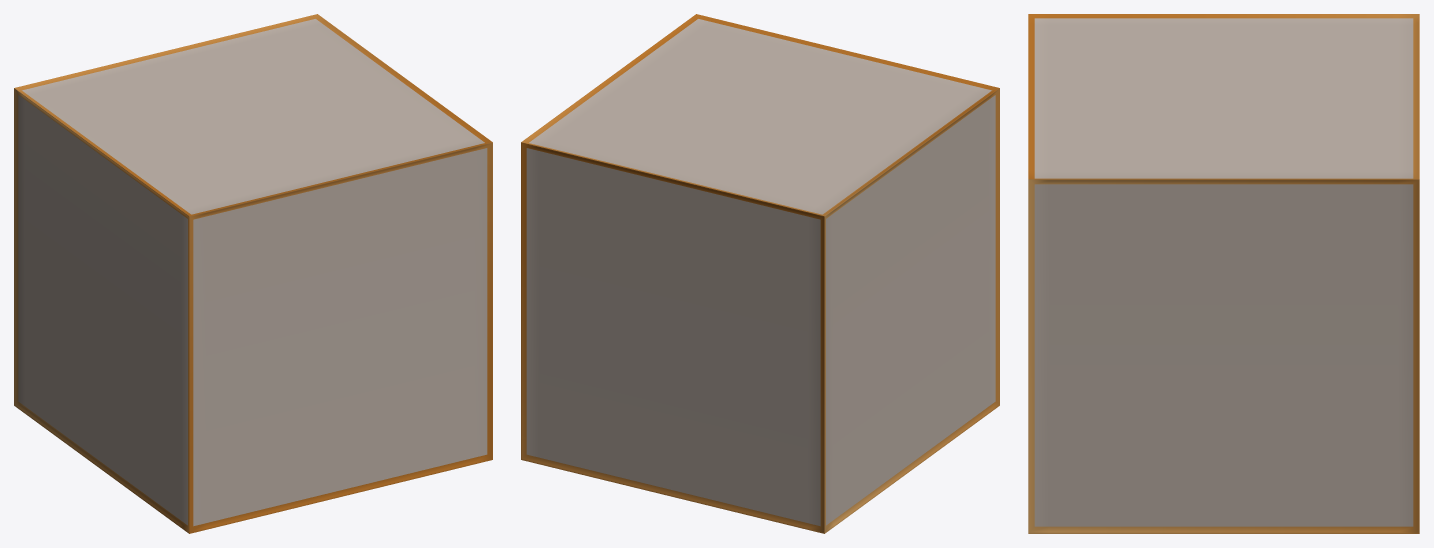
3 views of the same model, side by side, from view 1: azimuth 30°, elevation 25°; view 2: azimuth 150°, elevation 25°; view 3: azimuth 270°, elevation 25° (orthographic). The views are drawn at different scales.
Parts seen in each view (by area): view 1: box; view 2: box; view 3: box.
Boxes of the visible parts, box(x1,y1,x2,y2) form: box: box(14, 14, 492, 533); box: box(521, 14, 999, 533); box: box(1028, 14, 1419, 533).
Bounding box in the file's own units: 101 × 101 × 101.
2 materials, 1 textured.
